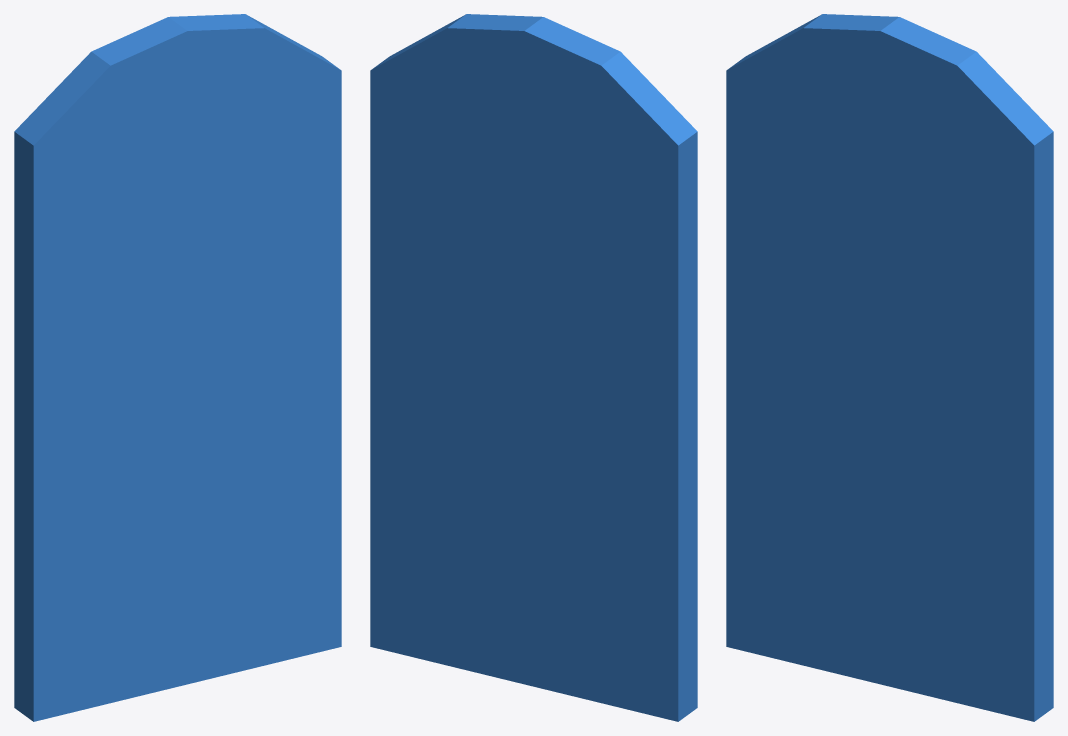
File: Collision_Door_8_Round.fbx
The picture shows the model from 3 angles, left to right: view 1: azimuth 30°, elevation 25°; view 2: azimuth 150°, elevation 25°; view 3: azimuth 330°, elevation 25°; orthographic projection.
Visible parts, largest first — view 1: UCX_Door_8_Round_1; view 2: UCX_Door_8_Round_1; view 3: UCX_Door_8_Round_1.
Boxes of the visible parts, x1,y1,x2,y2 form: UCX_Door_8_Round_1: (14,14,341,721); UCX_Door_8_Round_1: (370,14,697,721); UCX_Door_8_Round_1: (726,14,1053,721).
Bounding box in the file's own units: 117 × 237 × 12.71.
